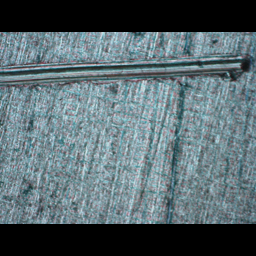d: (0, 49, 253, 94)
